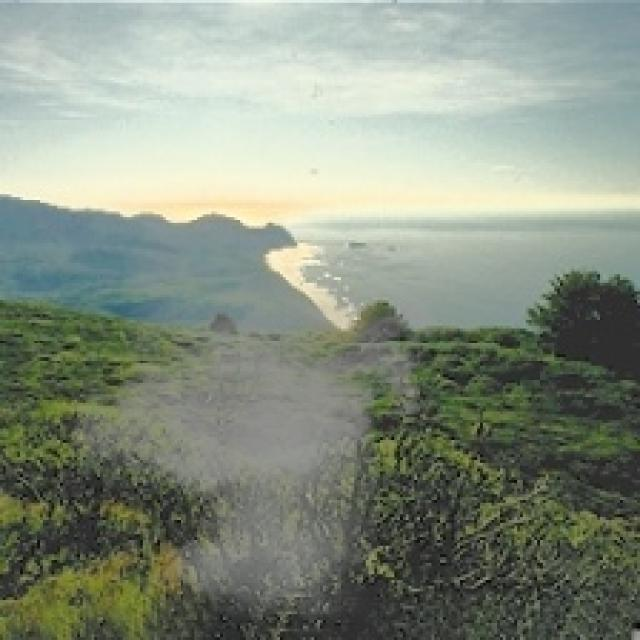smoke: (54, 249, 449, 620)
